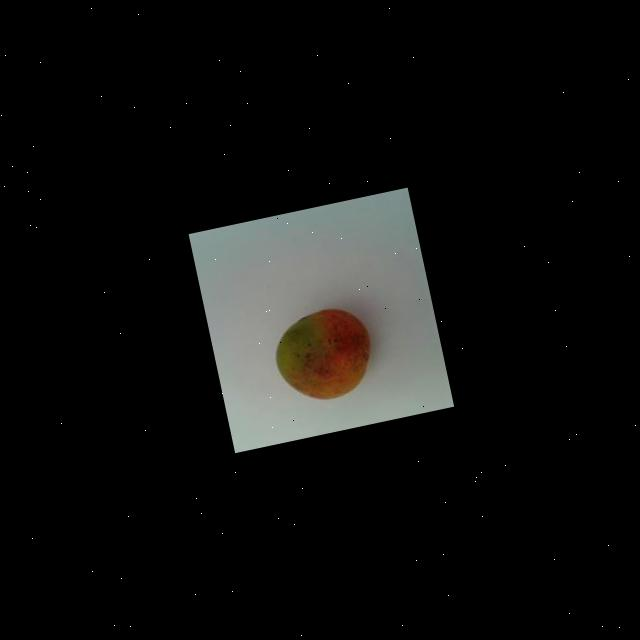Mango: (264, 301, 378, 408)
